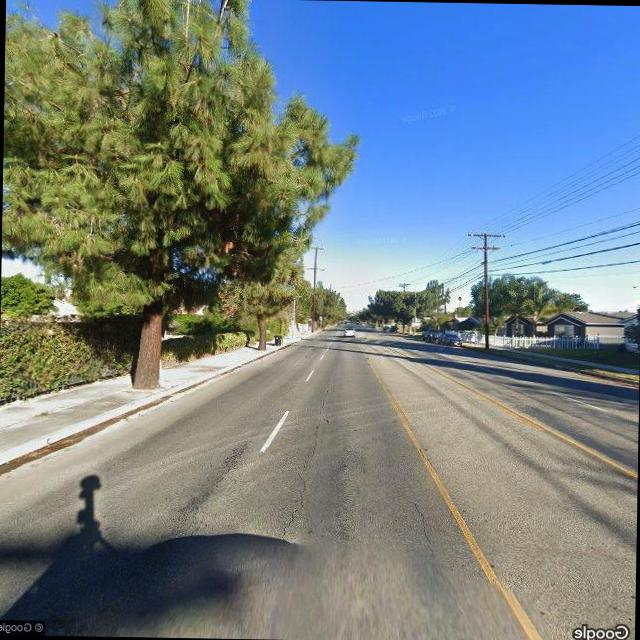pothole: (284, 383, 329, 548), (399, 493, 438, 563)
